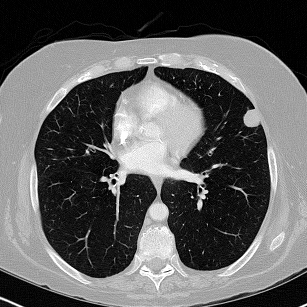nodule: (242, 109, 260, 127)
